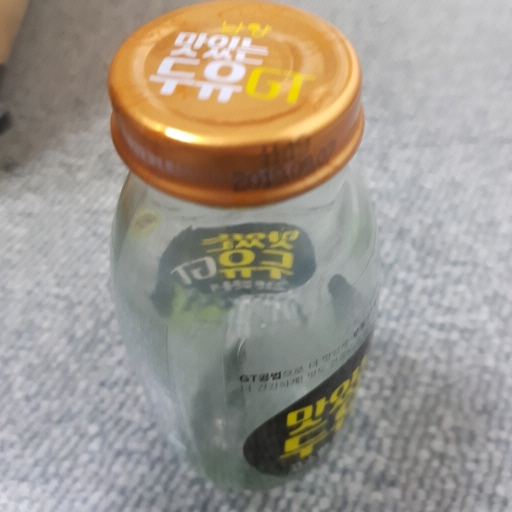Glass_4: (104, 6, 381, 485)
